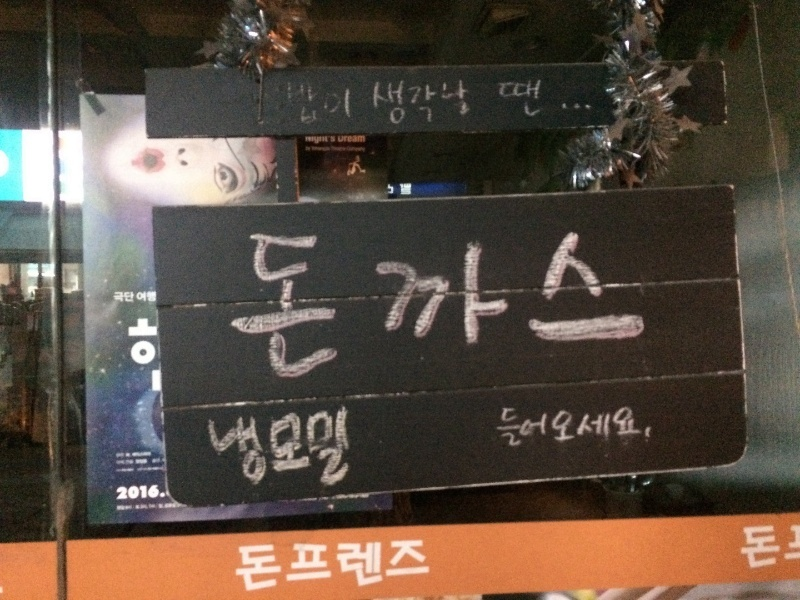text: (241, 228, 256, 394), (257, 228, 272, 394), (273, 228, 288, 394), (289, 228, 304, 394), (305, 228, 320, 394), (321, 228, 336, 394), (337, 228, 352, 394), (353, 228, 368, 394), (369, 228, 384, 394), (385, 228, 400, 394), (401, 228, 416, 394), (417, 228, 432, 394), (433, 228, 448, 394), (449, 228, 464, 394), (465, 228, 480, 394), (481, 228, 496, 394), (497, 228, 512, 394), (513, 228, 528, 394), (529, 228, 544, 394), (545, 228, 560, 394), (561, 228, 576, 394), (577, 228, 592, 394), (593, 228, 608, 394), (609, 228, 624, 394), (625, 228, 640, 394), (641, 228, 651, 394), (209, 404, 224, 496), (225, 404, 240, 496), (241, 404, 256, 496), (257, 404, 272, 496), (273, 404, 288, 496), (289, 404, 304, 496), (305, 404, 320, 496), (321, 404, 336, 496), (337, 404, 352, 496), (129, 316, 144, 399), (145, 316, 160, 399), (241, 536, 256, 597), (257, 536, 272, 597), (273, 536, 288, 597), (289, 536, 304, 597), (305, 536, 320, 597), (321, 536, 336, 597), (337, 536, 352, 597), (353, 536, 368, 597), (369, 536, 384, 597), (385, 536, 400, 597), (401, 536, 416, 597), (417, 536, 432, 597), (369, 76, 384, 134), (385, 76, 400, 134), (401, 76, 416, 134), (417, 76, 432, 134), (433, 76, 448, 134), (449, 76, 464, 134), (769, 524, 785, 576), (289, 77, 304, 132), (305, 77, 320, 132), (321, 77, 336, 132), (337, 77, 352, 132), (737, 524, 752, 576), (753, 524, 768, 576), (497, 403, 512, 449), (513, 403, 528, 449), (529, 403, 544, 449), (545, 403, 560, 449), (561, 403, 576, 449), (577, 403, 592, 449), (593, 403, 608, 449), (609, 403, 624, 449), (625, 403, 640, 449), (529, 78, 545, 121), (497, 78, 512, 121), (513, 78, 528, 121), (641, 403, 655, 449), (465, 76, 476, 134), (231, 536, 240, 597), (238, 228, 240, 394), (124, 316, 128, 399), (129, 484, 144, 506), (145, 484, 160, 506), (114, 484, 128, 506), (284, 77, 288, 132), (161, 316, 163, 399), (114, 292, 128, 303), (145, 291, 157, 303), (353, 77, 355, 132), (494, 78, 496, 121), (137, 291, 144, 303), (433, 536, 434, 597), (129, 292, 134, 303)
